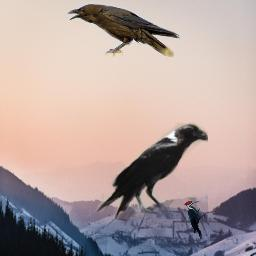Crow: (92, 120, 208, 219), (65, 1, 182, 57)
Woodpecker: (184, 200, 207, 239)
